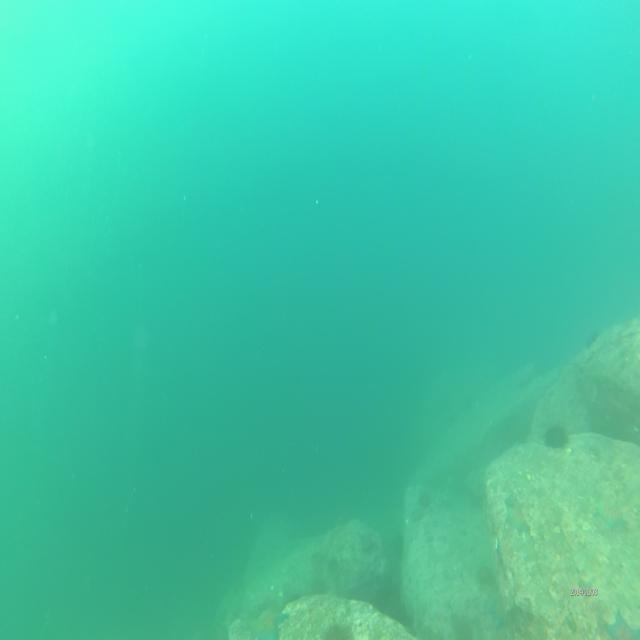echinus: (543, 423, 568, 450)
starfish: (249, 603, 287, 640), (602, 605, 640, 640), (596, 494, 629, 534), (504, 495, 532, 540)
